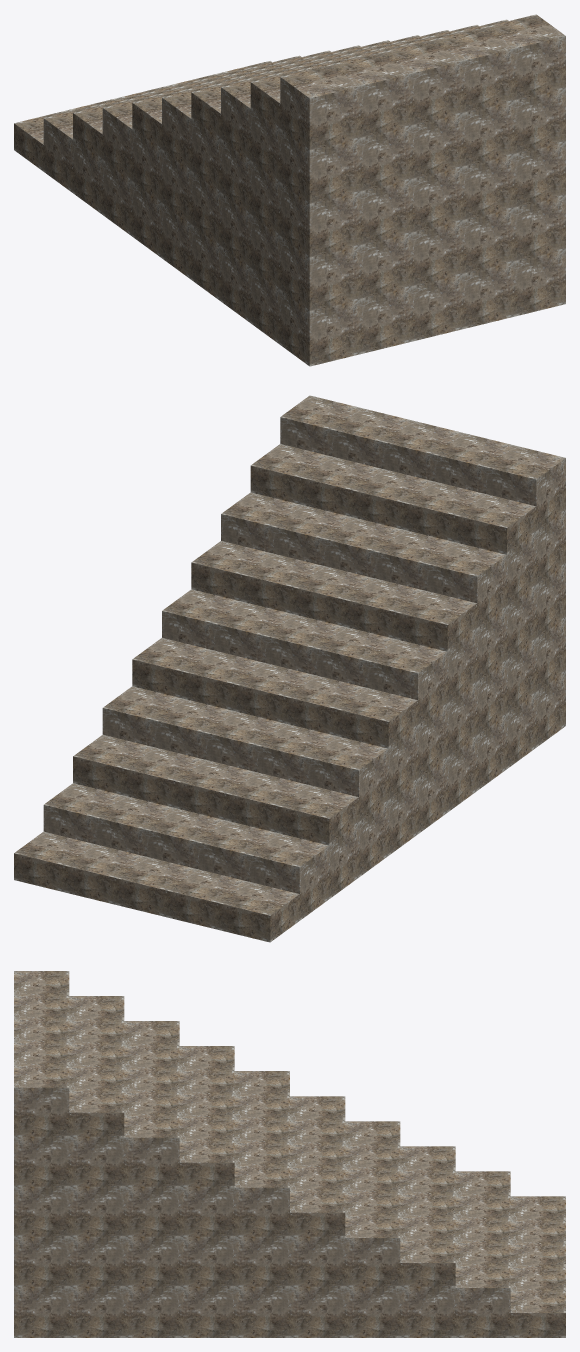
The picture shows the model from 3 angles, top to bottom: view 1: azimuth 30°, elevation 25°; view 2: azimuth 150°, elevation 25°; view 3: azimuth 270°, elevation 25°; orthographic projection. The views are drawn at different scales.
Parts seen in each view (by area): view 1: TexturesCom_ConcreteRough0076_1_seamless_S; view 2: TexturesCom_ConcreteRough0076_1_seamless_S; view 3: TexturesCom_ConcreteRough0076_1_seamless_S.
Boxes of the visible parts, x1=… form: TexturesCom_ConcreteRough0076_1_seamless_S: x1=14, y1=14, x2=565, y2=366; TexturesCom_ConcreteRough0076_1_seamless_S: x1=14, y1=395, x2=565, y2=942; TexturesCom_ConcreteRough0076_1_seamless_S: x1=14, y1=971, x2=565, y2=1337.
Size of the model in its own units: 5 by 5 by 10.
1 material, 1 textured.
